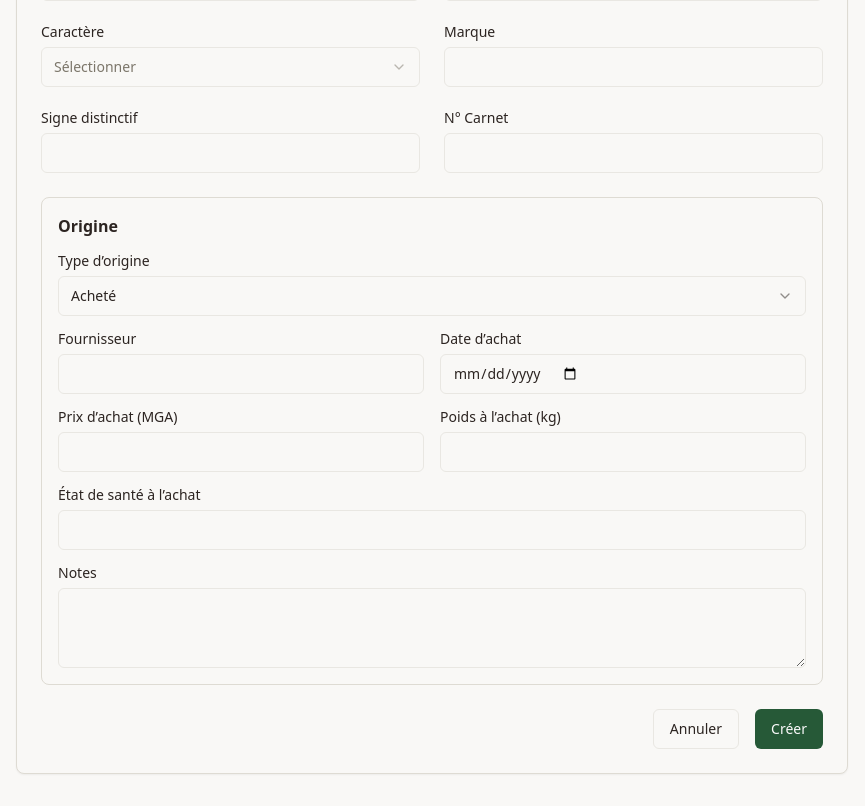
Test: CattleCreatePage › shows validation errors when required fields are missing
(page scrolled)
Step 1. Click the button "Créer" → point(789, 729), box [755,709,823,749]
(page scrolled)
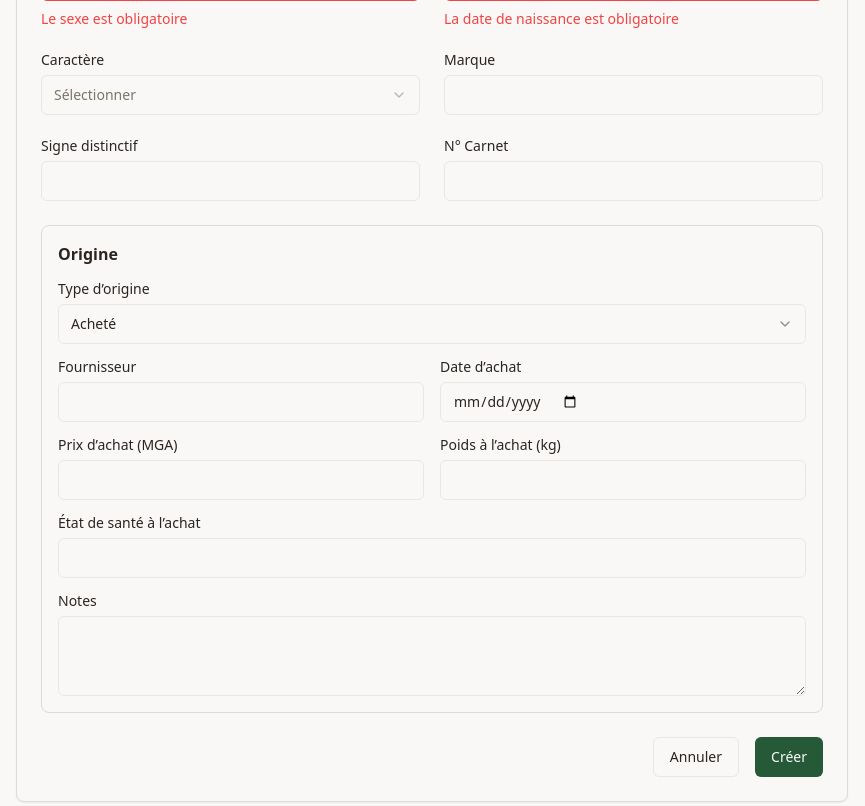
Result: the text "Le sexe est obligatoire" is shown at [41,9,188,28]
Result: the text "La date de naissance est obligatoire" is shown at [444,9,679,28]
